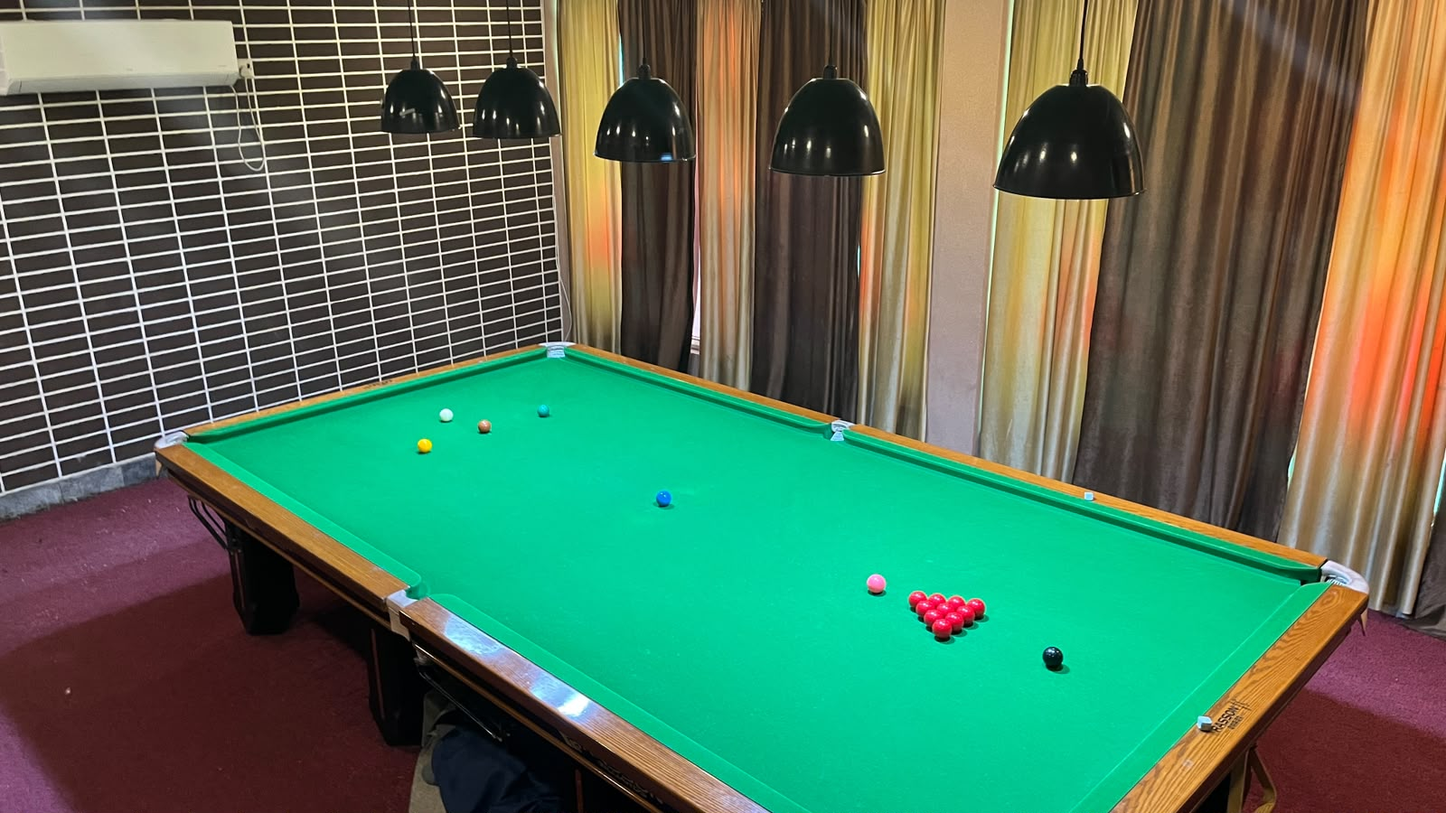Snooker: (904, 586, 1000, 653)
